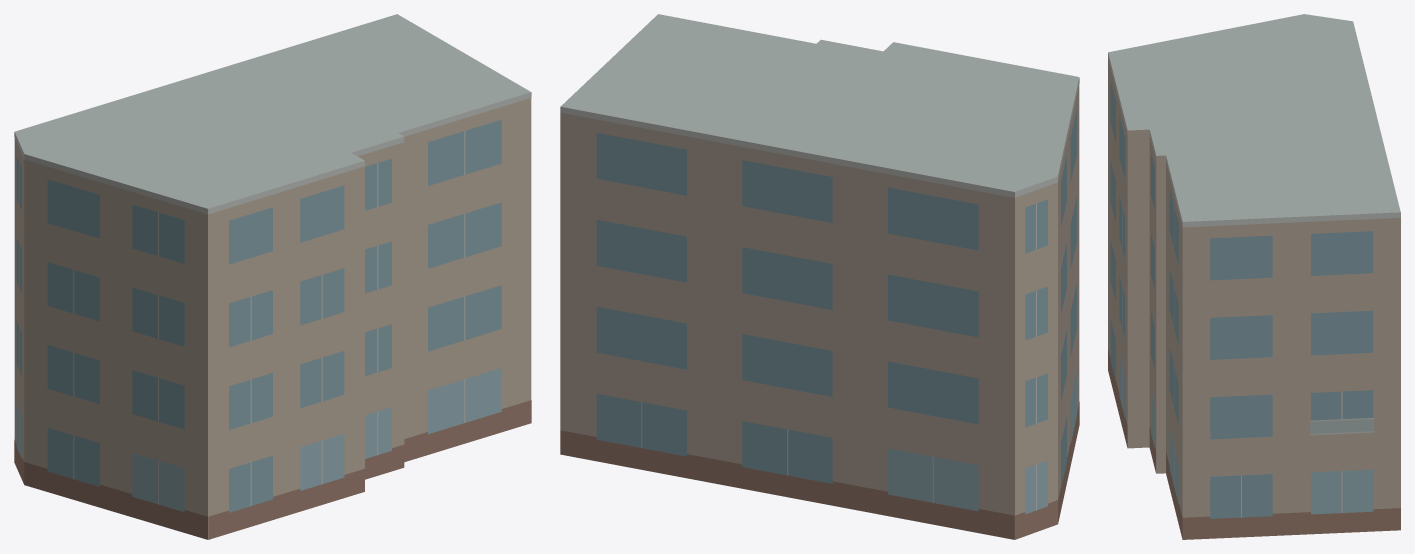
Rendered from survey-upis-32627397.glb.
3 renders of one model, left to right at view 1: azimuth 30°, elevation 25°; view 2: azimuth 150°, elevation 25°; view 3: azimuth 270°, elevation 25°, orthographic. The views are drawn at different scales.
Visible parts, largest first — view 1: survey-upis-32627397.tmp; view 2: survey-upis-32627397.tmp; view 3: survey-upis-32627397.tmp.
Part boxes in pixels (x1=…): survey-upis-32627397.tmp: x1=14, y1=14, x2=531, y2=539; survey-upis-32627397.tmp: x1=560, y1=14, x2=1079, y2=539; survey-upis-32627397.tmp: x1=1108, y1=14, x2=1400, y2=539.
Size of the model in its own units: 20.07 by 14.3 by 11.94.
